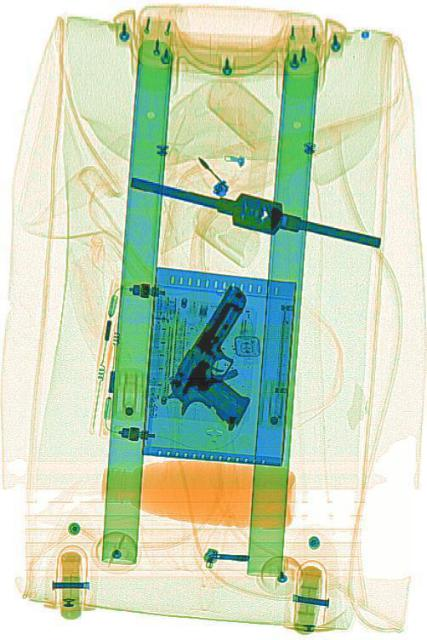Gun: (159, 276, 286, 456)
